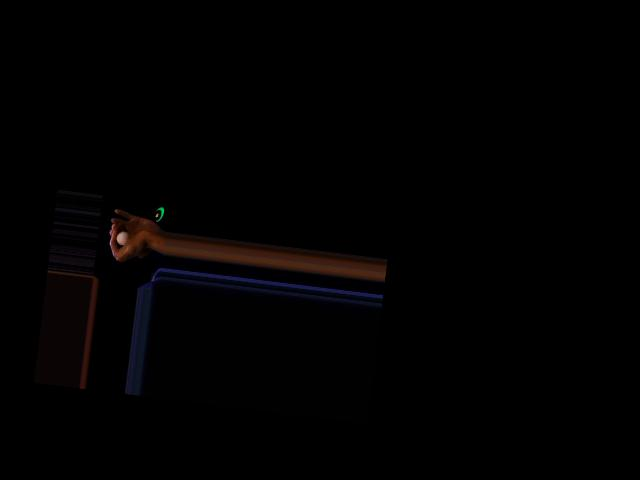egg: (115, 230, 128, 246)
